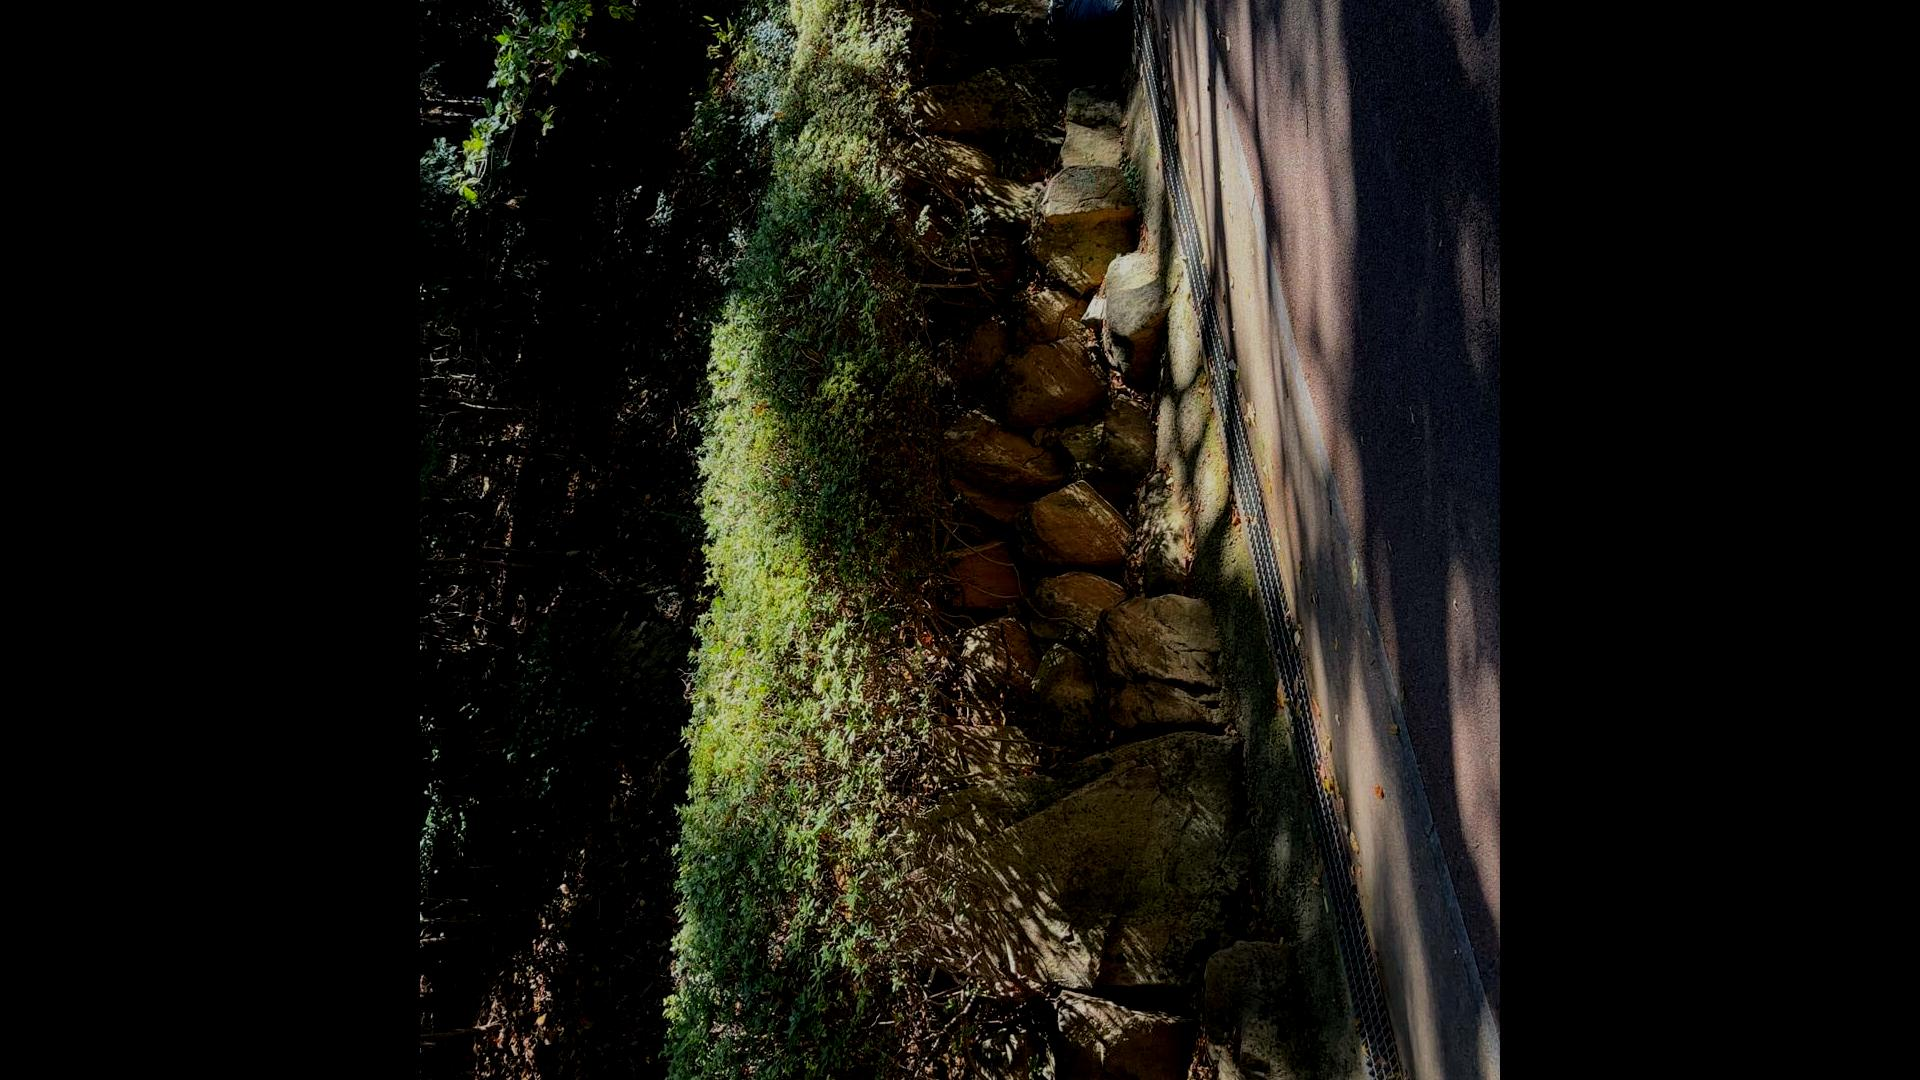black_bag: (1042, 0, 1130, 86)
